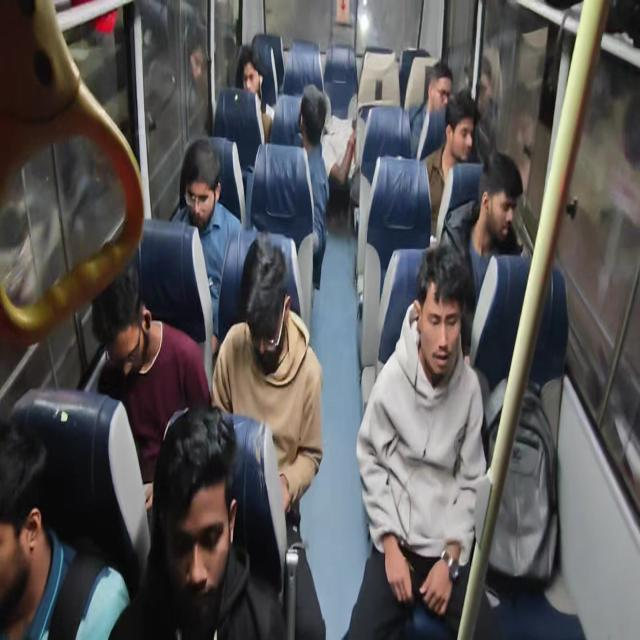person: (343, 242, 488, 638), (108, 404, 287, 638), (211, 233, 323, 514), (91, 263, 211, 512), (0, 420, 131, 639), (170, 138, 243, 338), (460, 150, 524, 308), (421, 89, 480, 239), (296, 84, 330, 288), (408, 62, 453, 160), (235, 45, 274, 144), (320, 90, 357, 185), (474, 54, 501, 158), (185, 42, 211, 138)
